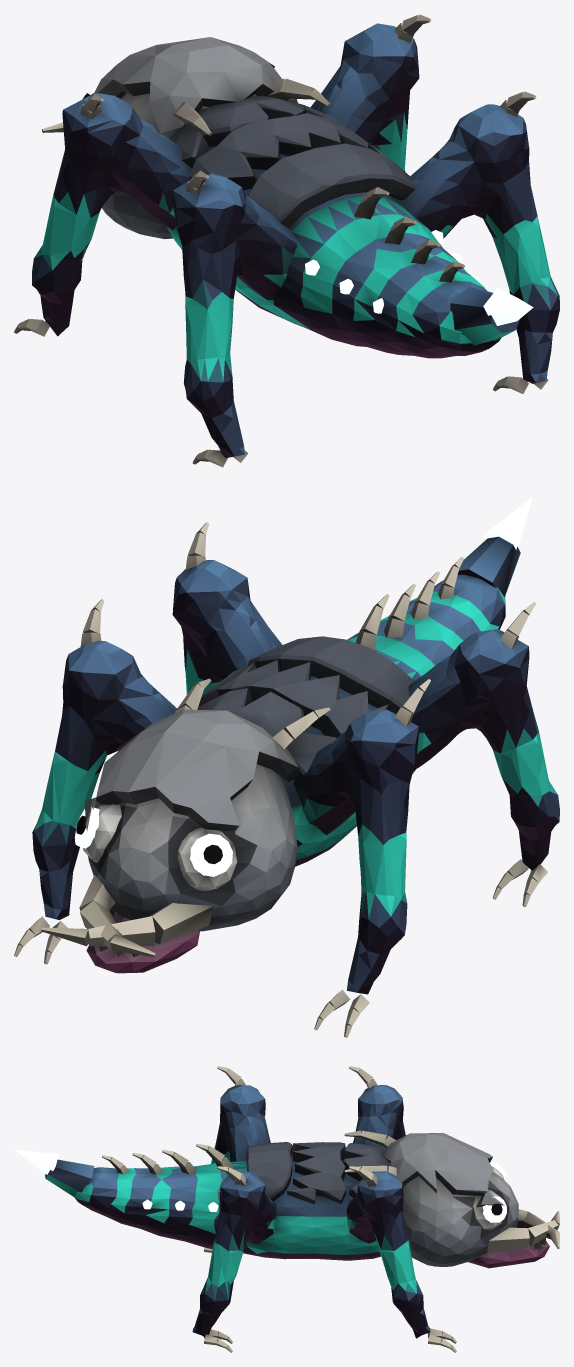
Rendered from Runner.glb.
3 views of the same model, one above another, from view 1: azimuth 30°, elevation 25°; view 2: azimuth 150°, elevation 25°; view 3: azimuth 270°, elevation 25° (orthographic). The views are drawn at different scales.
Visible parts, largest first — view 1: Torso, Leg_4, Leg_3, Leg_1, Head, Leg_2, Dots_Glow; view 2: Head, Torso, Leg_1, Leg_3, Leg_2, Leg_4, Jaw, Eyes_Glow, Dots_Glow; view 3: Torso, Head, Leg_2, Leg_4, Leg_3, Leg_1, Jaw, Dots_Glow, Eyes_Glow.
Part boxes in pixels (x1,y1,x2,y2): Torso: (167, 95, 520, 358); Leg_4: (392, 91, 559, 393); Leg_3: (173, 170, 297, 467); Leg_1: (14, 92, 191, 336); Head: (42, 37, 330, 239); Leg_2: (310, 14, 431, 171); Dots_Glow: (305, 230, 533, 325); Head: (41, 678, 330, 957); Torso: (197, 536, 520, 866); Leg_1: (293, 679, 430, 1037); Leg_3: (408, 602, 559, 906); Leg_2: (14, 599, 176, 964); Leg_4: (172, 522, 282, 694); Jaw: (86, 913, 199, 973); Eyes_Glow: (74, 807, 232, 876); Dots_Glow: (340, 496, 532, 639); Torso: (45, 1142, 390, 1260); Head: (344, 1130, 559, 1266); Leg_2: (346, 1166, 456, 1352); Leg_4: (192, 1166, 276, 1352); Leg_3: (204, 1066, 270, 1252); Leg_1: (349, 1066, 405, 1147); Jaw: (468, 1237, 549, 1268); Dots_Glow: (14, 1149, 218, 1211); Eyes_Glow: (482, 1160, 506, 1222).
Bounding box in the file's own units: 3.69 × 2.81 × 7.46.
